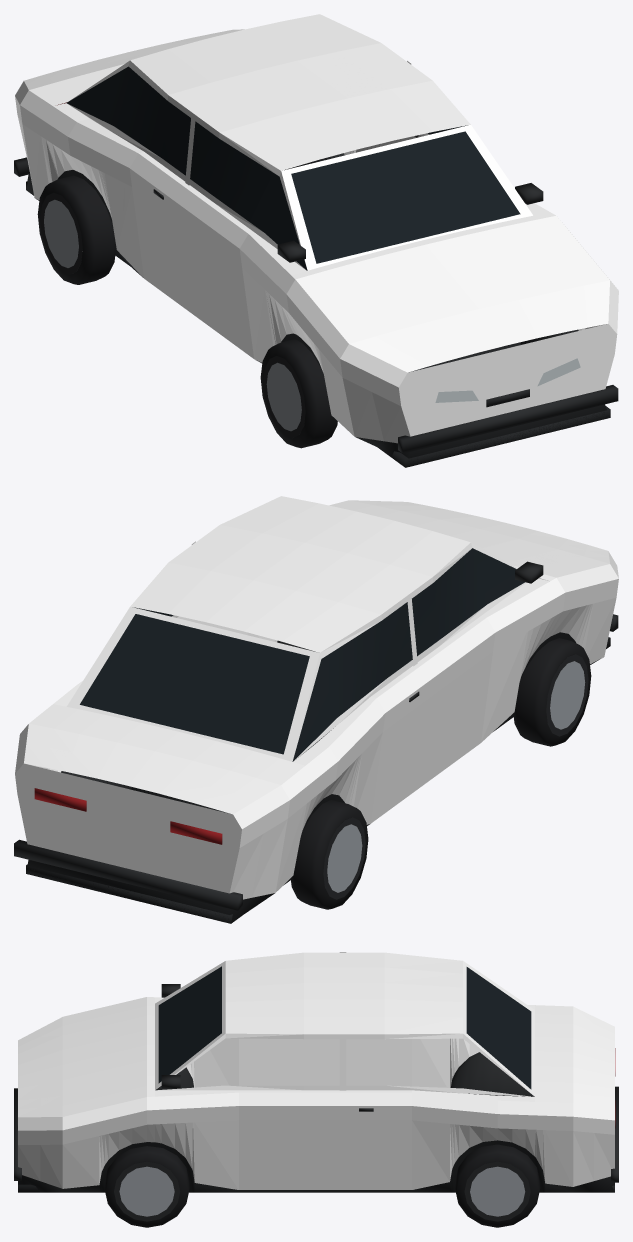
Rendered from ishigumo_louva.glb.
3 renders of one model, top to bottom at view 1: azimuth 30°, elevation 25°; view 2: azimuth 150°, elevation 25°; view 3: azimuth 270°, elevation 25°, orthographic. The views are drawn at different scales.
Visible parts, largest first — view 1: Body_Paint, Body_Details, Mount_RearLeft_Wheel_Details, Mount_FrontLeft_Wheel_Details; view 2: Body_Paint, Body_Details, Mount_RearLeft_Wheel_Details, Mount_FrontLeft_Wheel_Details; view 3: Body_Paint, Body_Details, Mount_RearRight_Wheel_Details, Mount_FrontRight_Wheel_Details.
Part boxes in pixels (<box>): Body_Paint: <box>15,14,618,443</box>; Body_Details: <box>14,66,618,467</box>; Mount_RearLeft_Wheel_Details: <box>37,175,116,284</box>; Mount_FrontLeft_Wheel_Details: <box>260,339,337,448</box>; Body_Paint: <box>15,496,618,899</box>; Body_Details: <box>14,548,618,923</box>; Mount_RearLeft_Wheel_Details: <box>290,800,368,909</box>; Mount_FrontLeft_Wheel_Details: <box>513,638,591,746</box>; Body_Paint: <box>18,952,614,1189</box>; Body_Details: <box>14,966,618,1192</box>; Mount_RearRight_Wheel_Details: <box>455,1144,540,1227</box>; Mount_FrontRight_Wheel_Details: <box>104,1146,189,1227</box>.
Bounding box in the file's own units: 1.75 × 1.39 × 4.12.
Materials: 2 (1 with a texture image).
